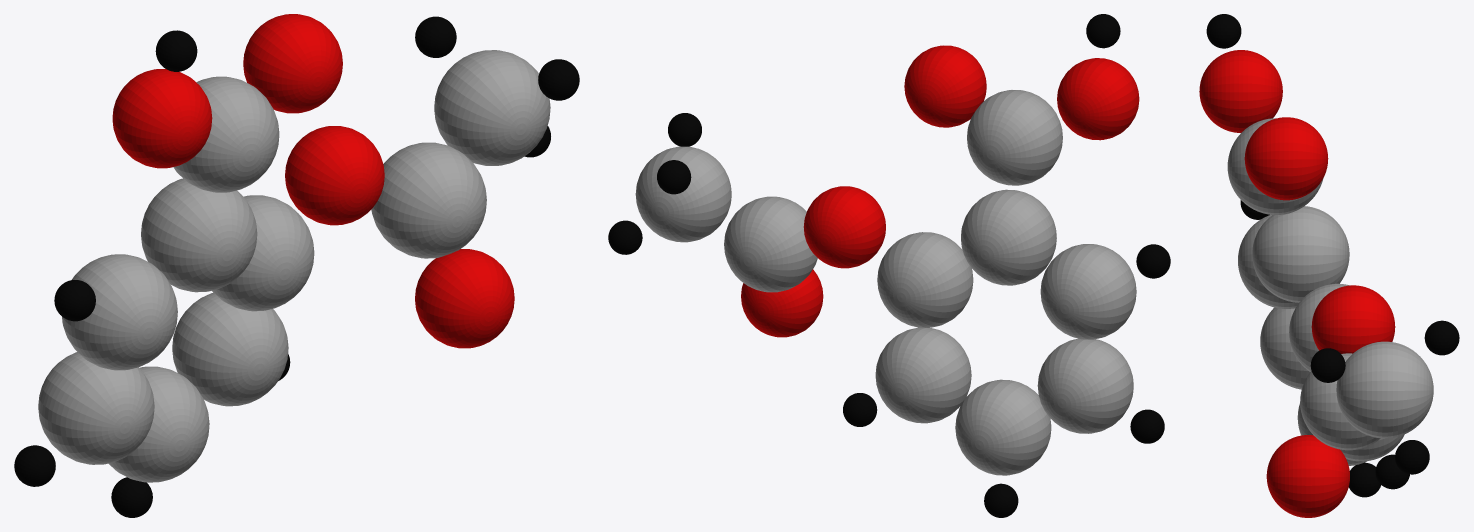
Rendered from Aspirin.glb.
3 renders of one model, left to right at view 1: azimuth 30°, elevation 25°; view 2: azimuth 150°, elevation 25°; view 3: azimuth 270°, elevation 25°, orthographic. The views are drawn at different scales.
Visible parts, largest first — view 1: world; view 2: world; view 3: world.
Boxes of the visible parts, bbox=[...] form: world: bbox=[14, 14, 579, 517]; world: bbox=[608, 14, 1170, 517]; world: bbox=[1199, 14, 1459, 517].
Bounding box in the file's own units: 8.33 × 7.36 × 3.74.
